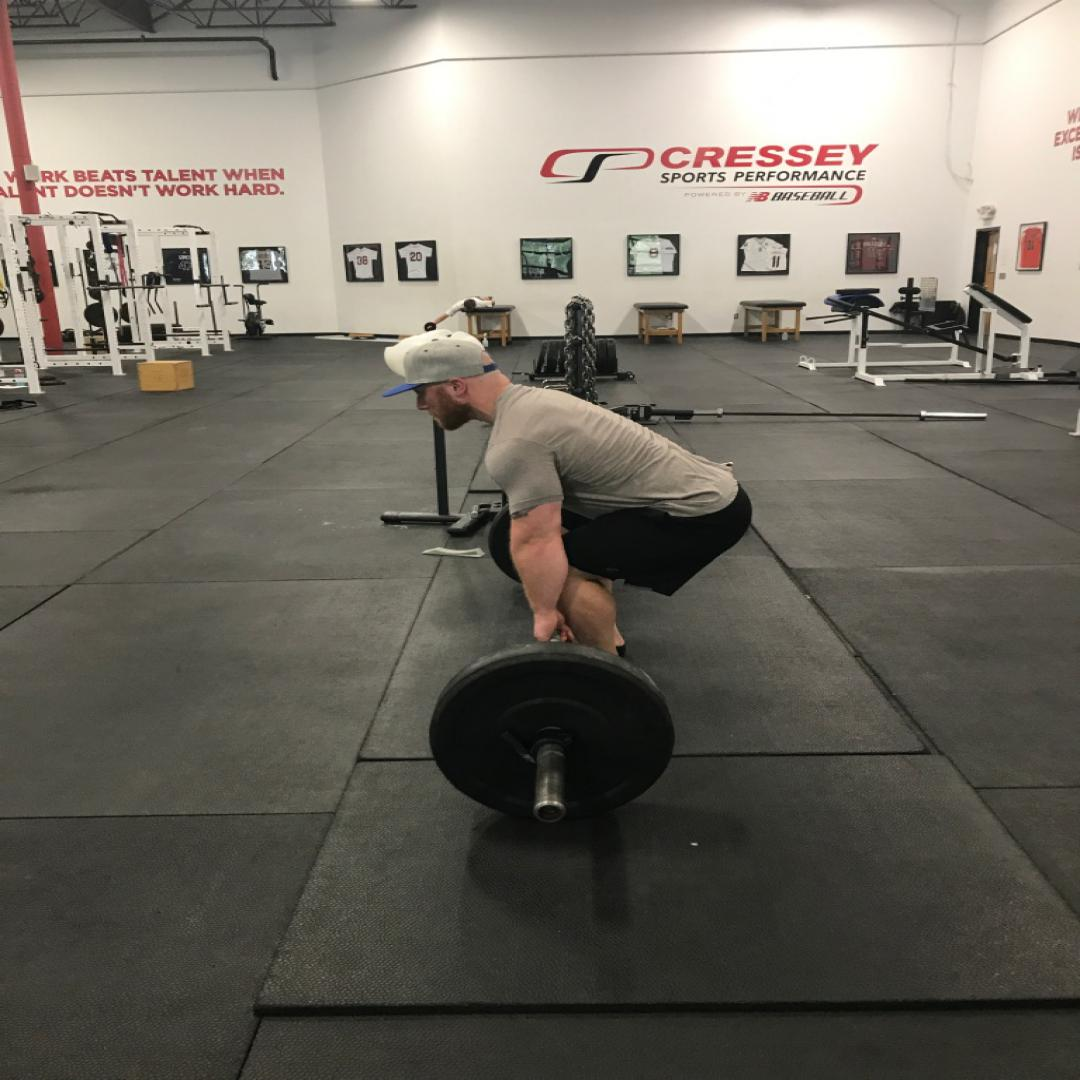Bar: (533, 802, 567, 822)
Barbell: (430, 652, 678, 820)
